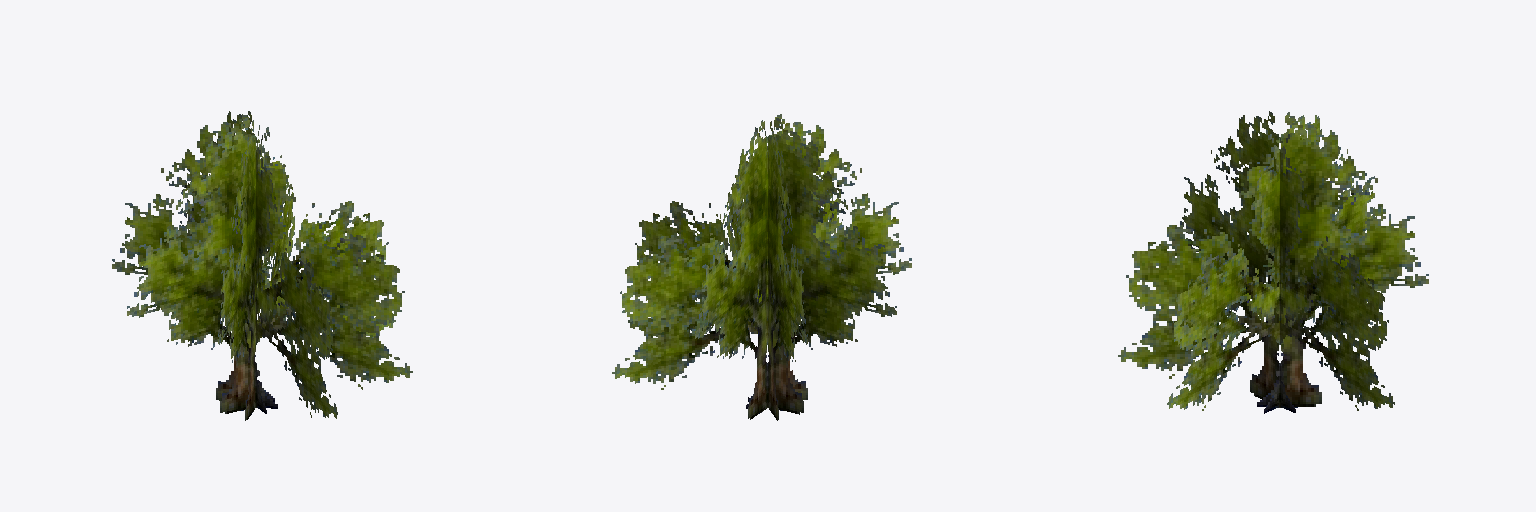
The picture shows the model from 3 angles: view 1: azimuth 30°, elevation 25°; view 2: azimuth 150°, elevation 25°; view 3: azimuth 270°, elevation 25°; orthographic projection.
Parts seen in each view (by area): view 1: Plane.003; view 2: Plane.003; view 3: Plane.003.
Boxes of the visible parts, x1=… form: Plane.003: x1=112, y1=111, x2=412, y2=420; Plane.003: x1=612, y1=114, x2=911, y2=420; Plane.003: x1=1118, y1=111, x2=1428, y2=413.
Bounding box in the file's own units: 0.3476 × 0.351 × 0.3476.
1 materials, 1 textured.